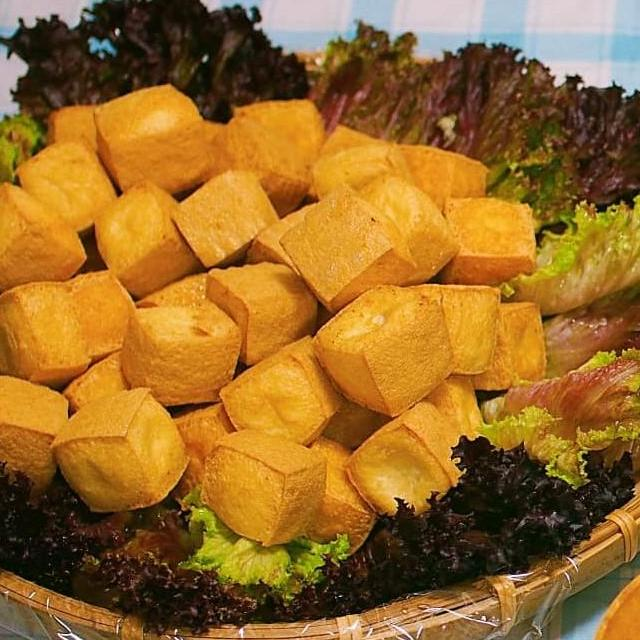dau hu: (306, 278, 462, 422), (294, 117, 492, 228), (41, 94, 246, 191), (44, 384, 194, 516), (278, 182, 420, 318), (340, 396, 476, 527), (195, 425, 332, 551), (216, 329, 350, 457), (88, 78, 216, 200), (346, 168, 468, 295), (116, 297, 247, 415), (88, 176, 206, 301), (200, 258, 324, 374), (218, 94, 329, 222), (144, 395, 250, 525), (165, 158, 282, 275), (286, 428, 386, 561), (7, 131, 124, 236), (436, 191, 542, 301), (394, 278, 504, 381), (0, 275, 95, 394), (0, 178, 93, 299), (46, 260, 146, 362), (304, 136, 416, 225), (0, 371, 74, 501), (462, 294, 552, 398), (0, 185, 22, 278)
